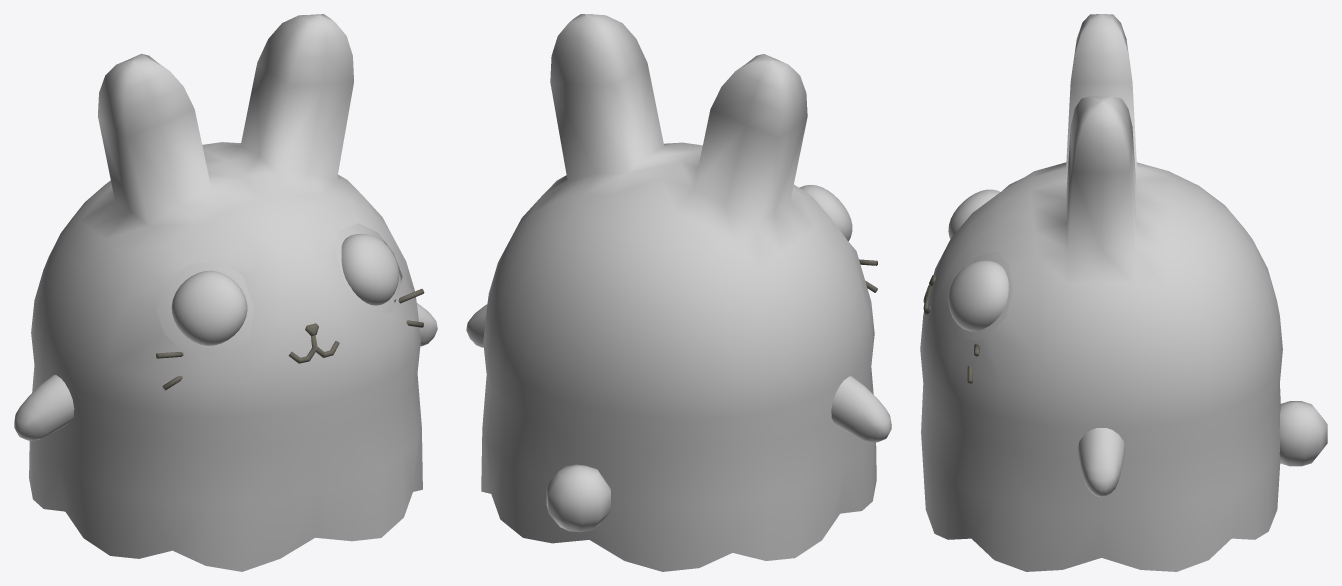
Rendered from ghost_skin2.fbx.
3 renders of one model, left to right at view 1: azimuth 30°, elevation 25°; view 2: azimuth 150°, elevation 25°; view 3: azimuth 270°, elevation 25°, orthographic. The views are drawn at different scales.
Visible parts, largest first — view 1: ghost_bunny_skin, Slime_EyeR, Slime_Body, Slime_arm, Slime_EyeL; view 2: ghost_bunny_skin, Slime_arm, Slime_EyeR; view 3: ghost_bunny_skin, Slime_EyeL, Slime_arm, Slime_Body, Slime_EyeR.
Part boxes in pixels (x1=…): ghost_bunny_skin: x1=29, y1=14, x2=424, y2=571; Slime_EyeR: x1=171, y1=270, x2=247, y2=345; Slime_Body: x1=156, y1=223, x2=401, y2=356; Slime_arm: x1=14, y1=303, x2=437, y2=440; Slime_EyeL: x1=341, y1=233, x2=398, y2=305; ghost_bunny_skin: x1=481, y1=14, x2=877, y2=571; Slime_arm: x1=466, y1=304, x2=891, y2=442; Slime_EyeR: x1=799, y1=185, x2=852, y2=241; ghost_bunny_skin: x1=920, y1=14, x2=1327, y2=571; Slime_EyeL: x1=948, y1=260, x2=1008, y2=331; Slime_arm: x1=1078, y1=428, x2=1125, y2=497; Slime_Body: x1=944, y1=251, x2=1012, y2=341; Slime_EyeR: x1=948, y1=189, x2=1000, y2=238.
Size of the model in its own units: 90.45 by 95.43 by 77.96.
